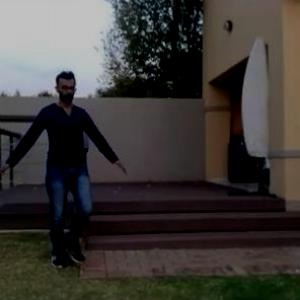land: (5, 72, 127, 270)
